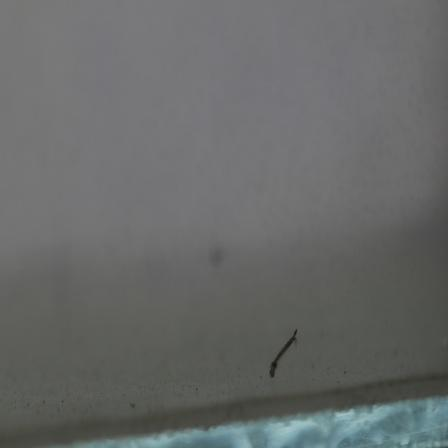Jentik-Nyamuk: (263, 324, 304, 381)
